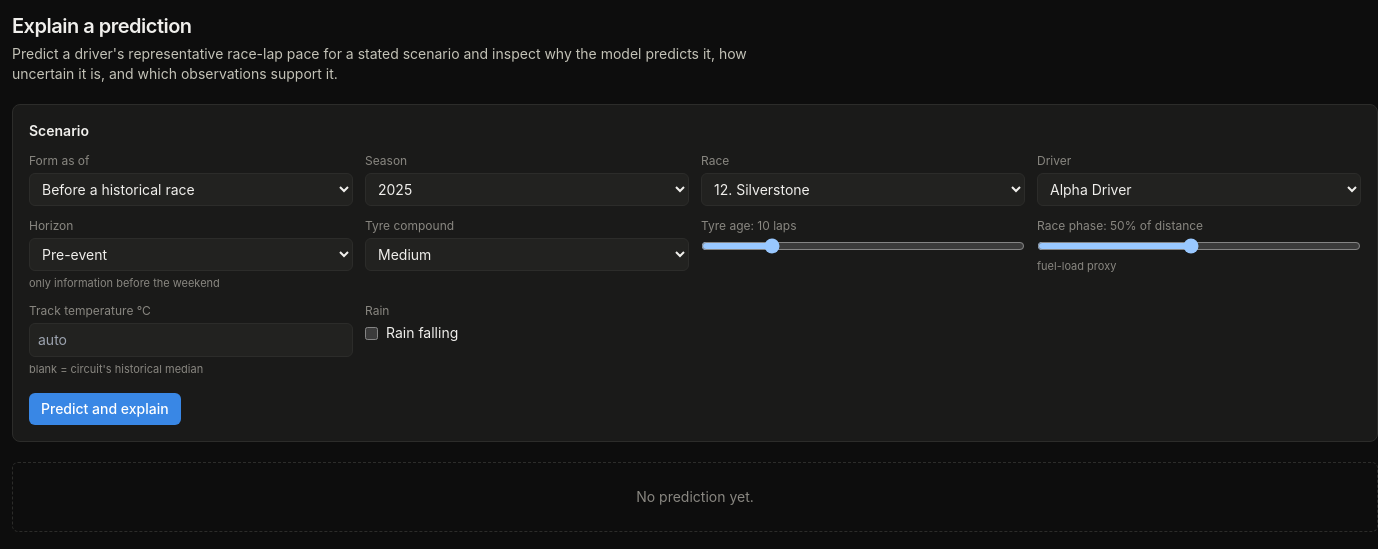
Scenario: Explain a prediction › explains unsupported scenarios instead of failing silently
Step 1. Click the button "Predict and explain" → click(105, 409), box [29, 393, 181, 425]
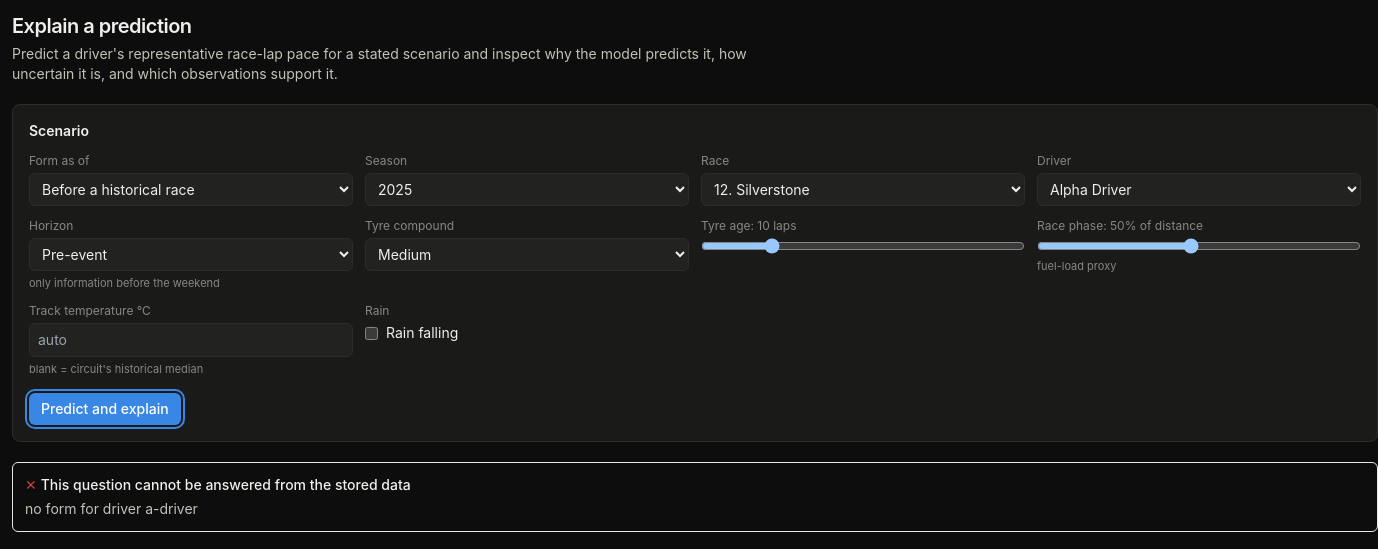
Check: the message shows "cannot be answered from the stored data", box [41, 476, 411, 493]
Check: the message shows "no form for driver a-driver", box [25, 500, 198, 517]
